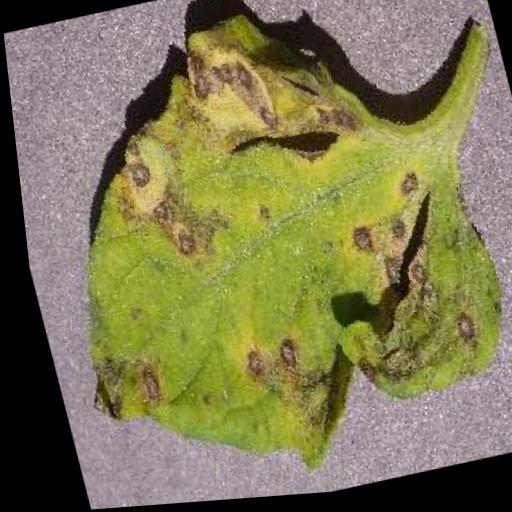Septoria: (0, 0, 512, 510)
